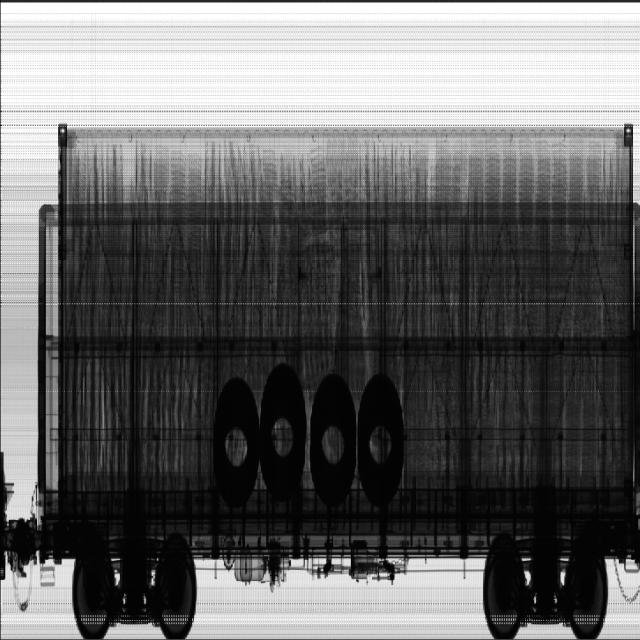shoes: (69, 142, 631, 351)
